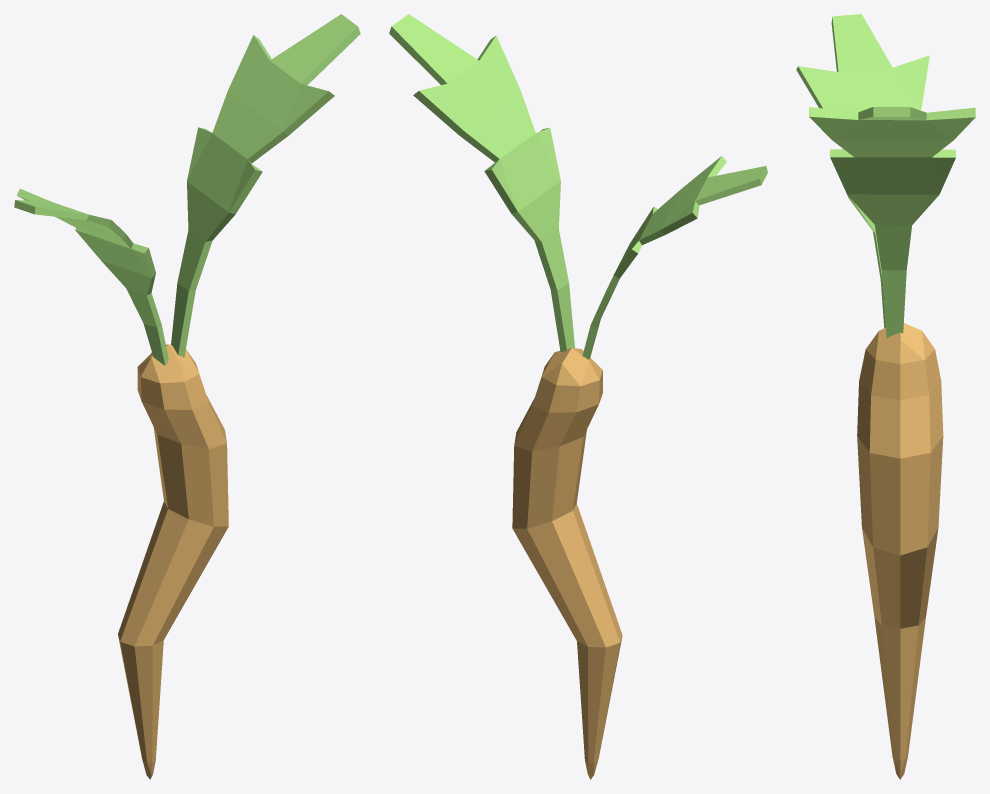
The model's file is carrot_2.glb.
3 renders of one model, left to right at view 1: azimuth 30°, elevation 25°; view 2: azimuth 150°, elevation 25°; view 3: azimuth 270°, elevation 25°, orthographic. The views are drawn at different scales.
Parts seen in each view (by area): view 1: Carrot_2; view 2: Carrot_2; view 3: Carrot_2.
Boxes of the visible parts, x1=… form: Carrot_2: x1=14, y1=14, x2=360, y2=779; Carrot_2: x1=389, y1=14, x2=767, y2=779; Carrot_2: x1=796, y1=14, x2=975, y2=779.
Bounding box in the file's own units: 0.1614 × 0.3127 × 0.0655.
